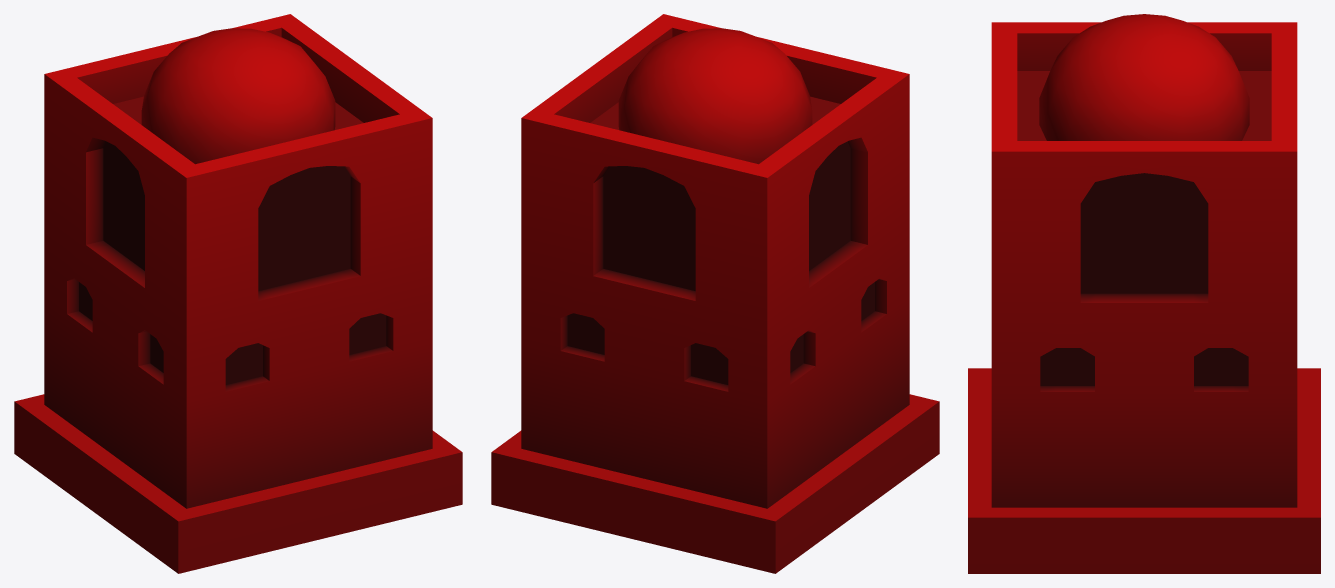
The model's file is buildings-historical-desertbuildingold_v10.fbx.
3 views of the same model, side by side, from view 1: azimuth 30°, elevation 25°; view 2: azimuth 150°, elevation 25°; view 3: azimuth 270°, elevation 25° (orthographic). The views are drawn at different scales.
Parts seen in each view (by area): view 1: DesertBuildingOld_v10; view 2: DesertBuildingOld_v10; view 3: DesertBuildingOld_v10.
Boxes of the visible parts, bbox=[...] form: DesertBuildingOld_v10: bbox=[14, 14, 462, 573]; DesertBuildingOld_v10: bbox=[491, 14, 939, 573]; DesertBuildingOld_v10: bbox=[968, 14, 1320, 573].
Size of the model in its own units: 9.55 by 14.13 by 9.55.
